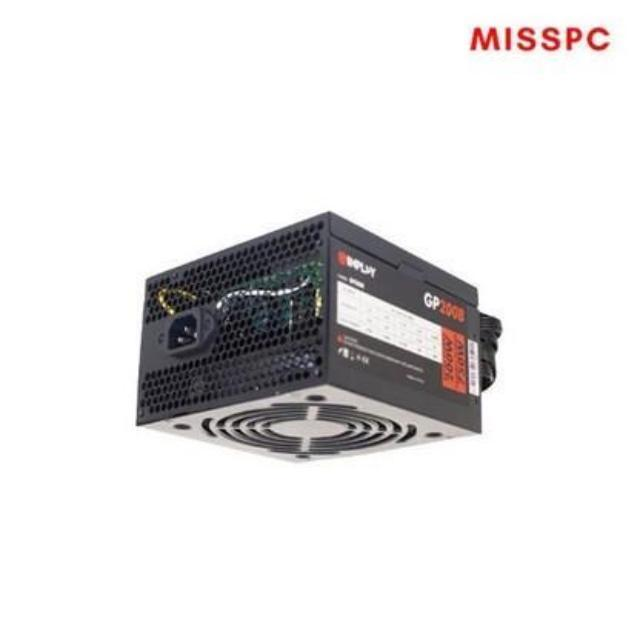PSU: (130, 205, 485, 478)
